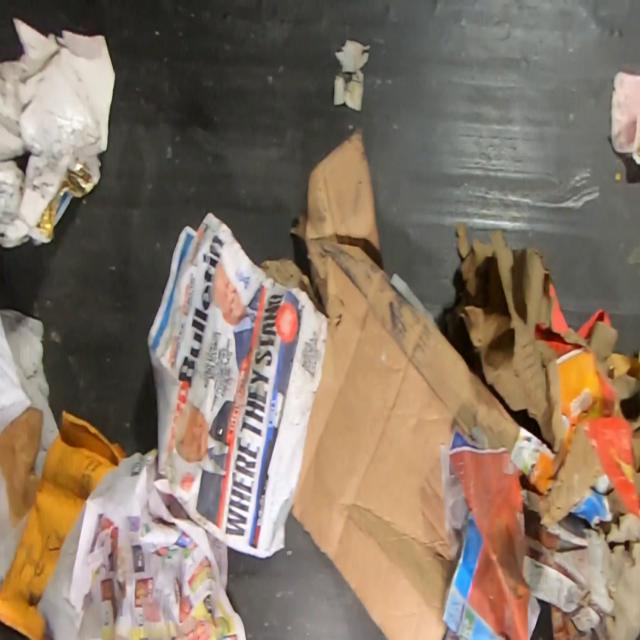cardboard: (256, 125, 517, 639), (444, 220, 640, 639)
